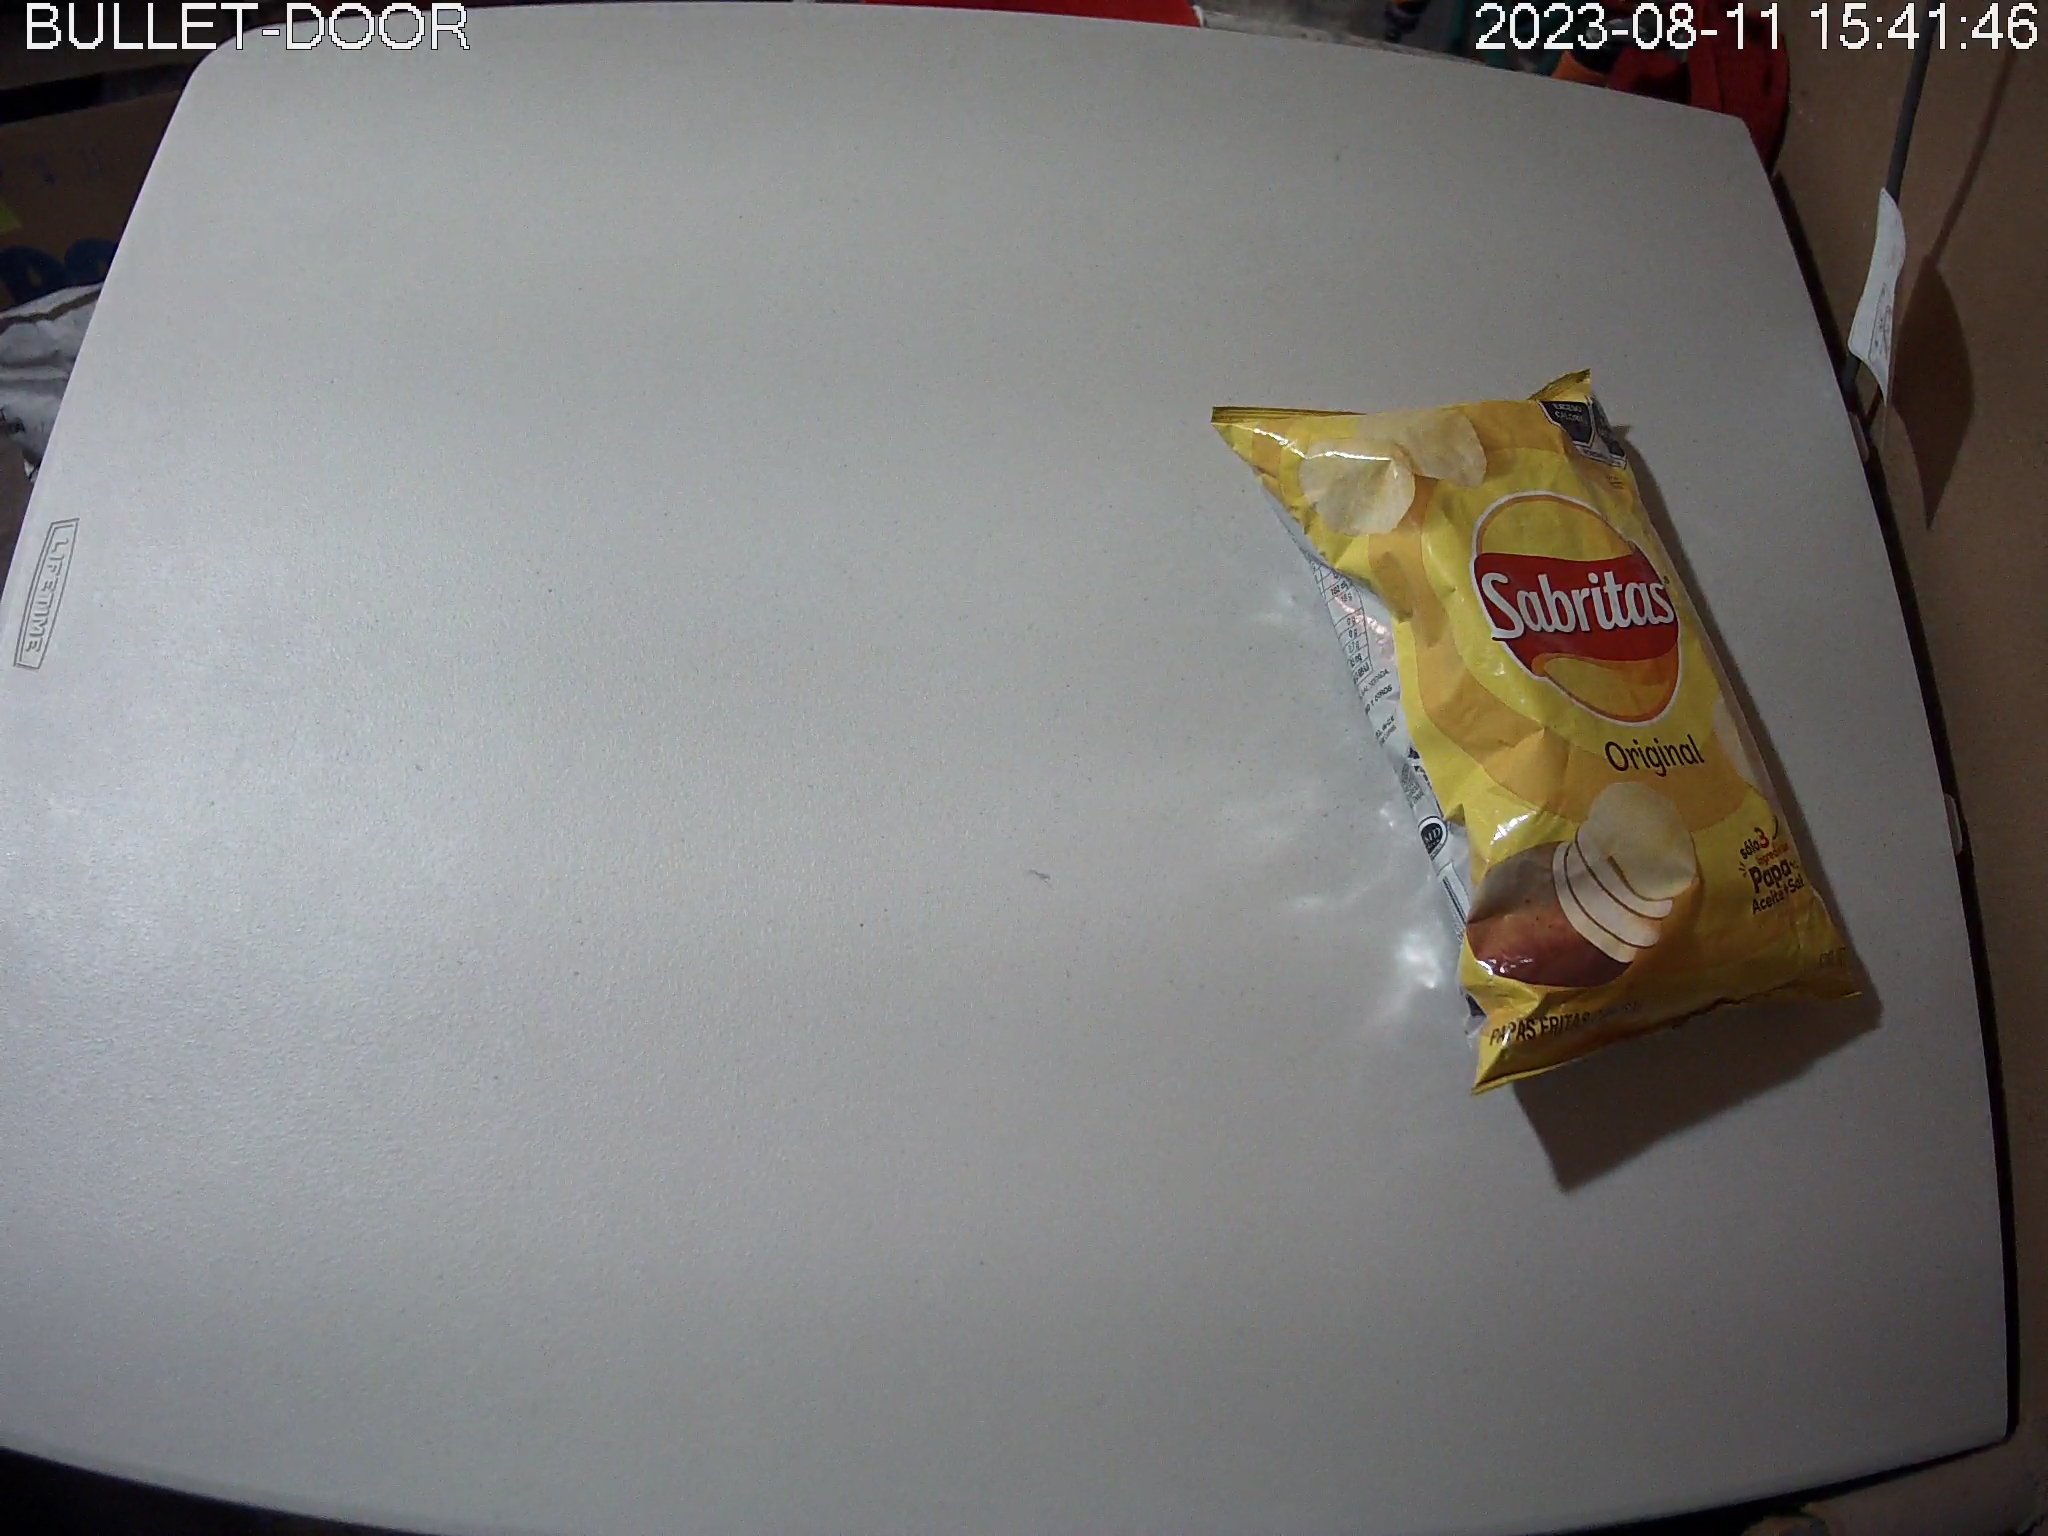Sabritas_160_F: (1213, 369, 1869, 1100)
